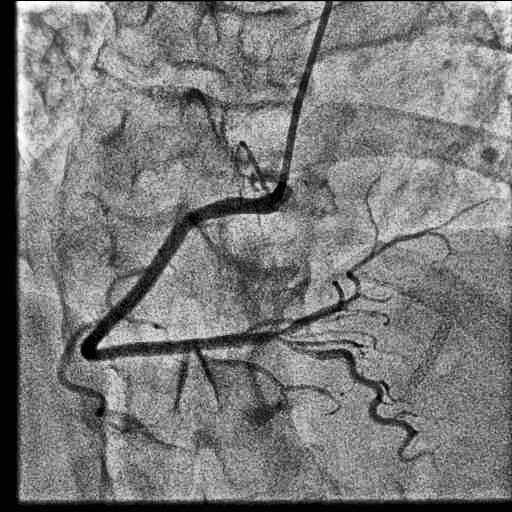pborca: (284, 230, 427, 335)
pda: (279, 338, 423, 463)
rca: (81, 194, 280, 360)
